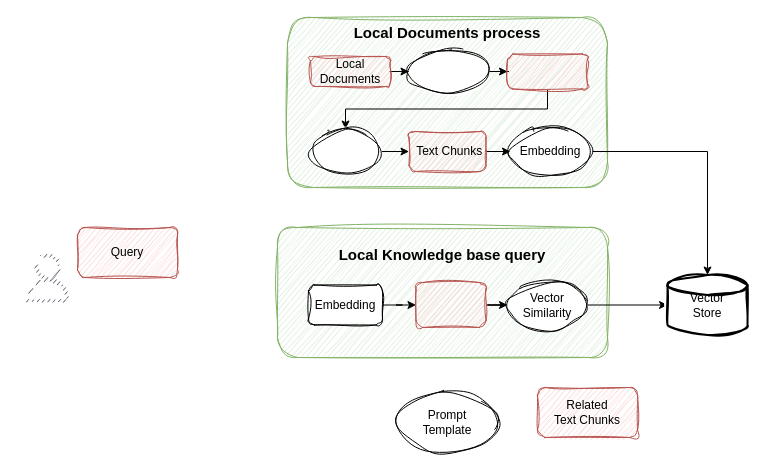
The diagram is 766 pixels wide and 470 high, and some of its shapes have lost their labels. Here are the shapes that lost their labels. From the top down, the centre of each, then its label:
the point at 448,71: Unstructured Loader
the point at 547,71: Text
the point at 345,151: Text Split
the point at 47,277: User
the point at 450,305: Query Vector
